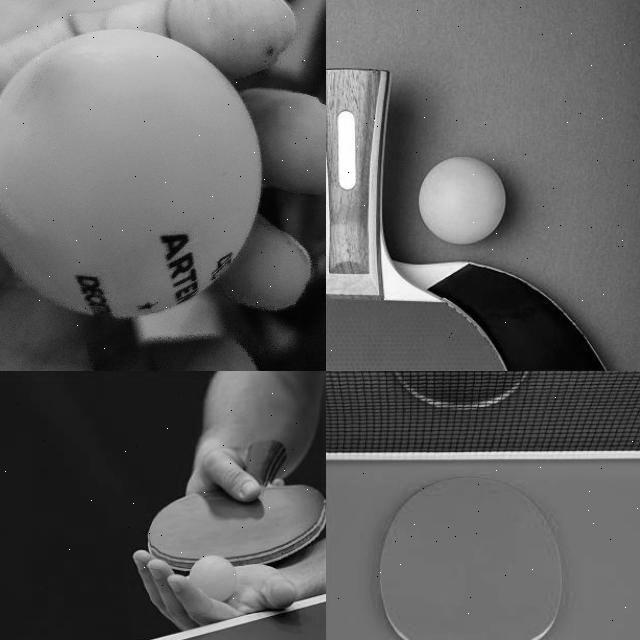ping-pong-ball: (0, 27, 260, 317), (418, 156, 504, 244), (190, 556, 237, 604)
